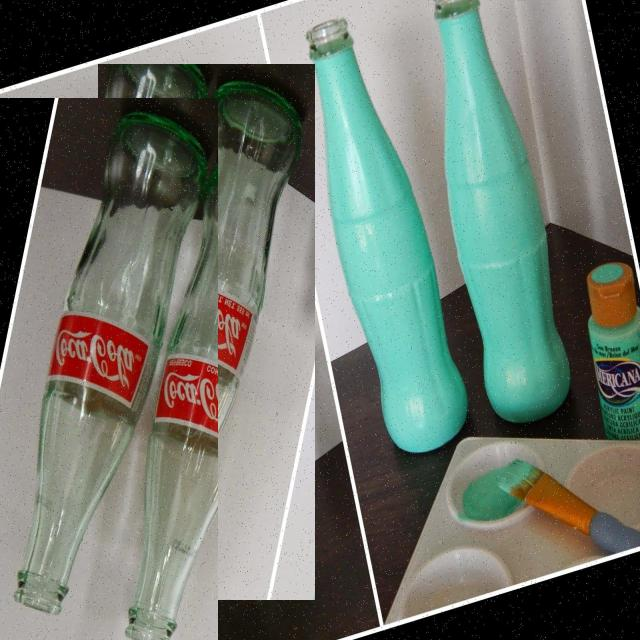coca-cola: (0, 98, 218, 640), (98, 64, 315, 600)
